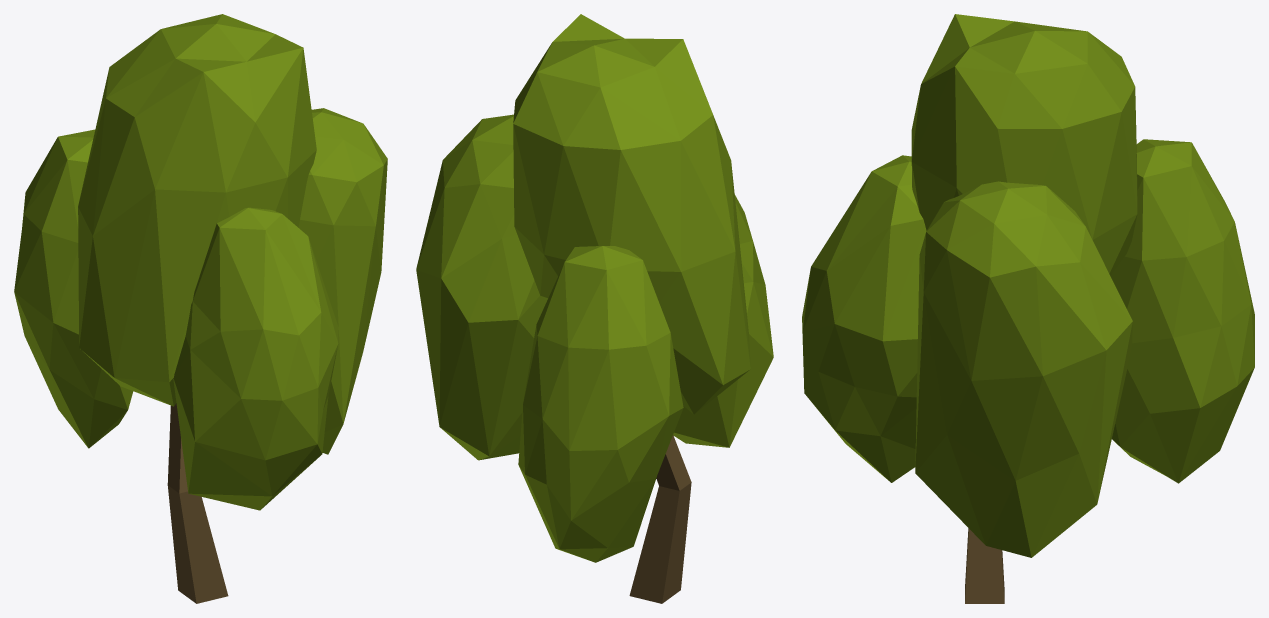
Rendered from GrasslandsTreeType7.fbx.
The picture shows the model from 3 angles, left to right: view 1: azimuth 30°, elevation 25°; view 2: azimuth 150°, elevation 25°; view 3: azimuth 270°, elevation 25°; orthographic projection. The views are drawn at different scales.
Parts seen in each view (by area): view 1: GrasslandsTreeType7; view 2: GrasslandsTreeType7; view 3: GrasslandsTreeType7.
Part boxes in pixels (box(x1,y1,x2,y2)): GrasslandsTreeType7: box(14, 14, 387, 603); GrasslandsTreeType7: box(416, 14, 773, 603); GrasslandsTreeType7: box(802, 14, 1254, 603).
Bounding box in the file's own units: 3.95 × 7.08 × 4.98.
